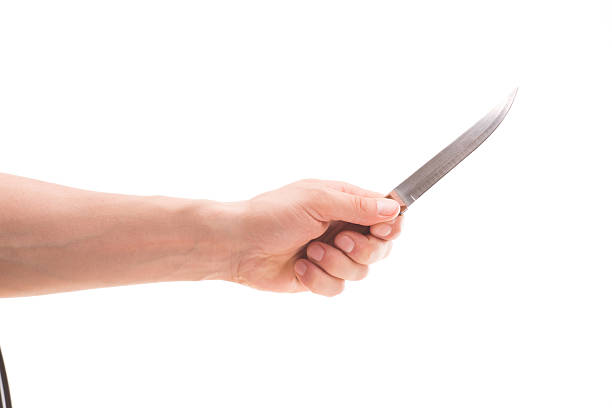knife: (315, 81, 521, 249)
